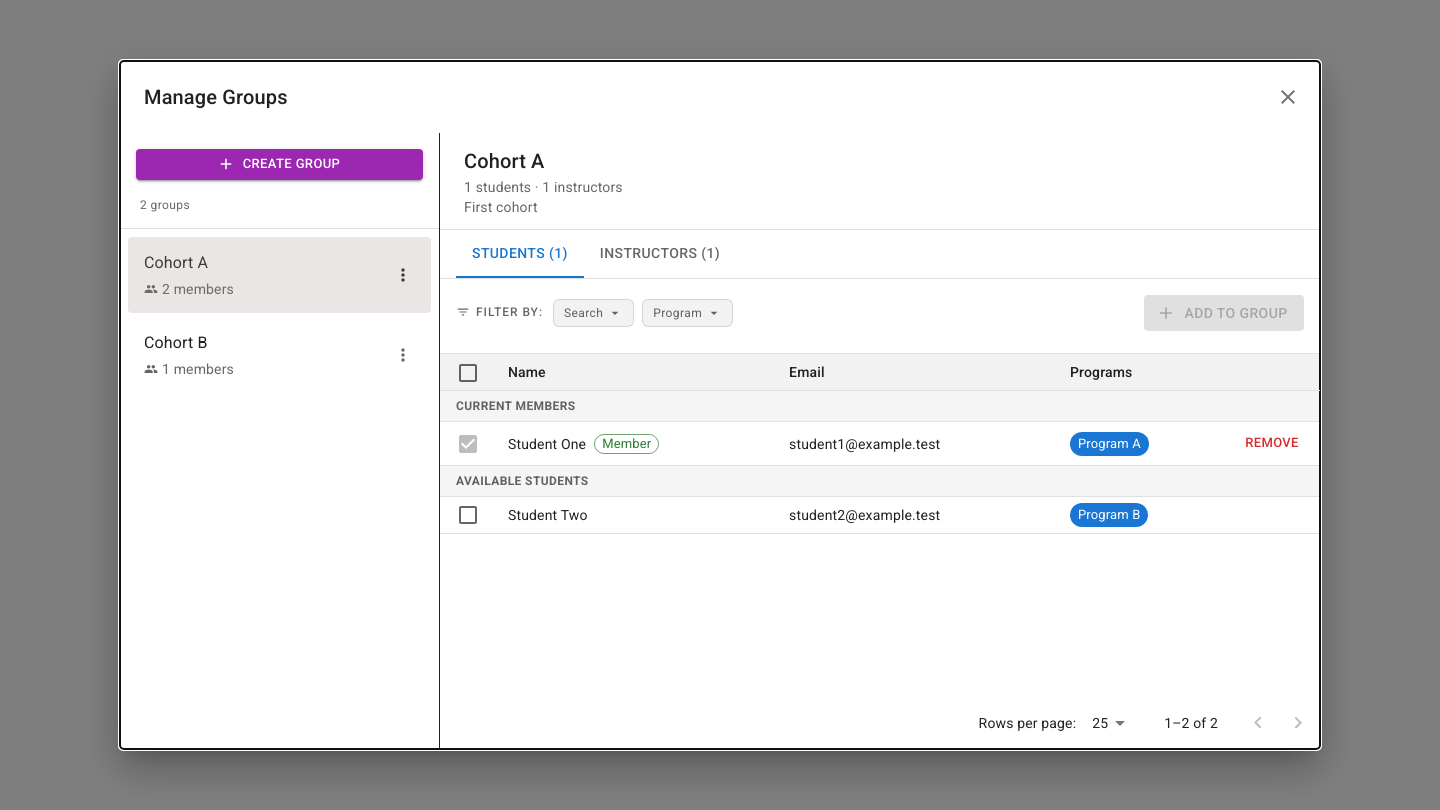
Test: GroupManagementModal › filters available students by program dropdown in the redesigned detail panel
Click the button "Program".
click(688, 313)  # box left=642, top=299, right=733, bottom=327
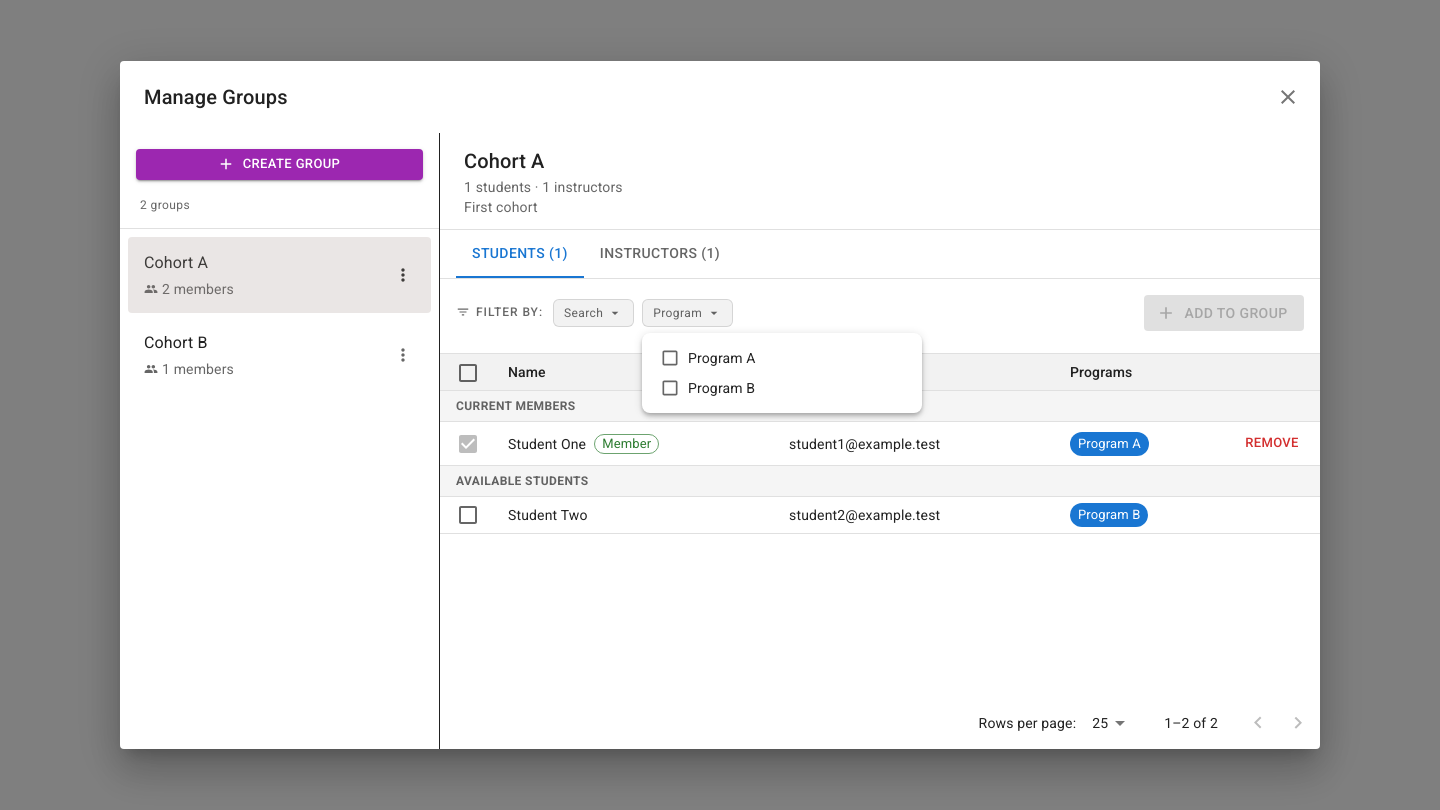
Click the menu item "Program B".
click(708, 388)  # box left=660, top=378, right=755, bottom=398
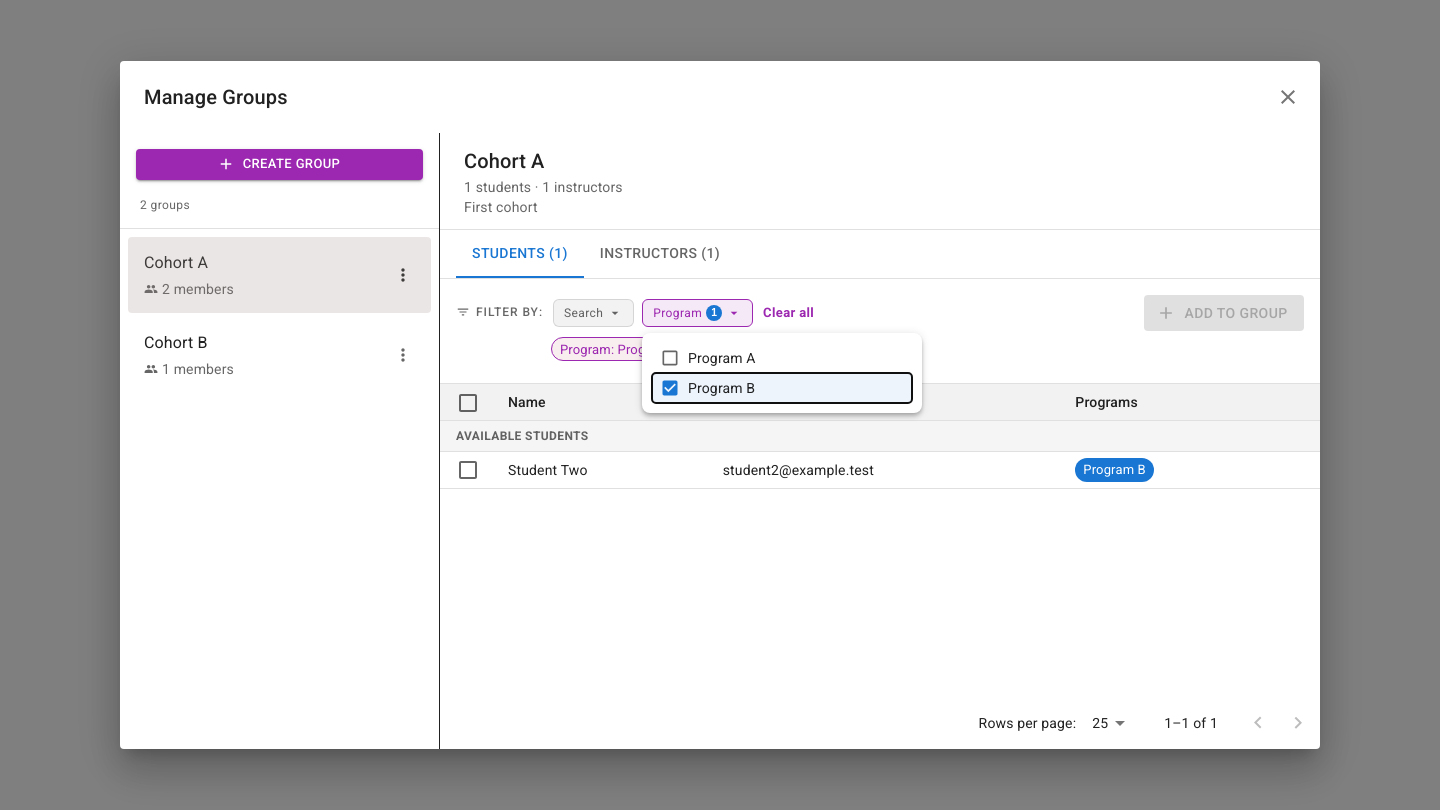
Expected: the text "Student Two" is shown, left=508, top=460, right=588, bottom=480
Expected: the text "Student One" is gone
